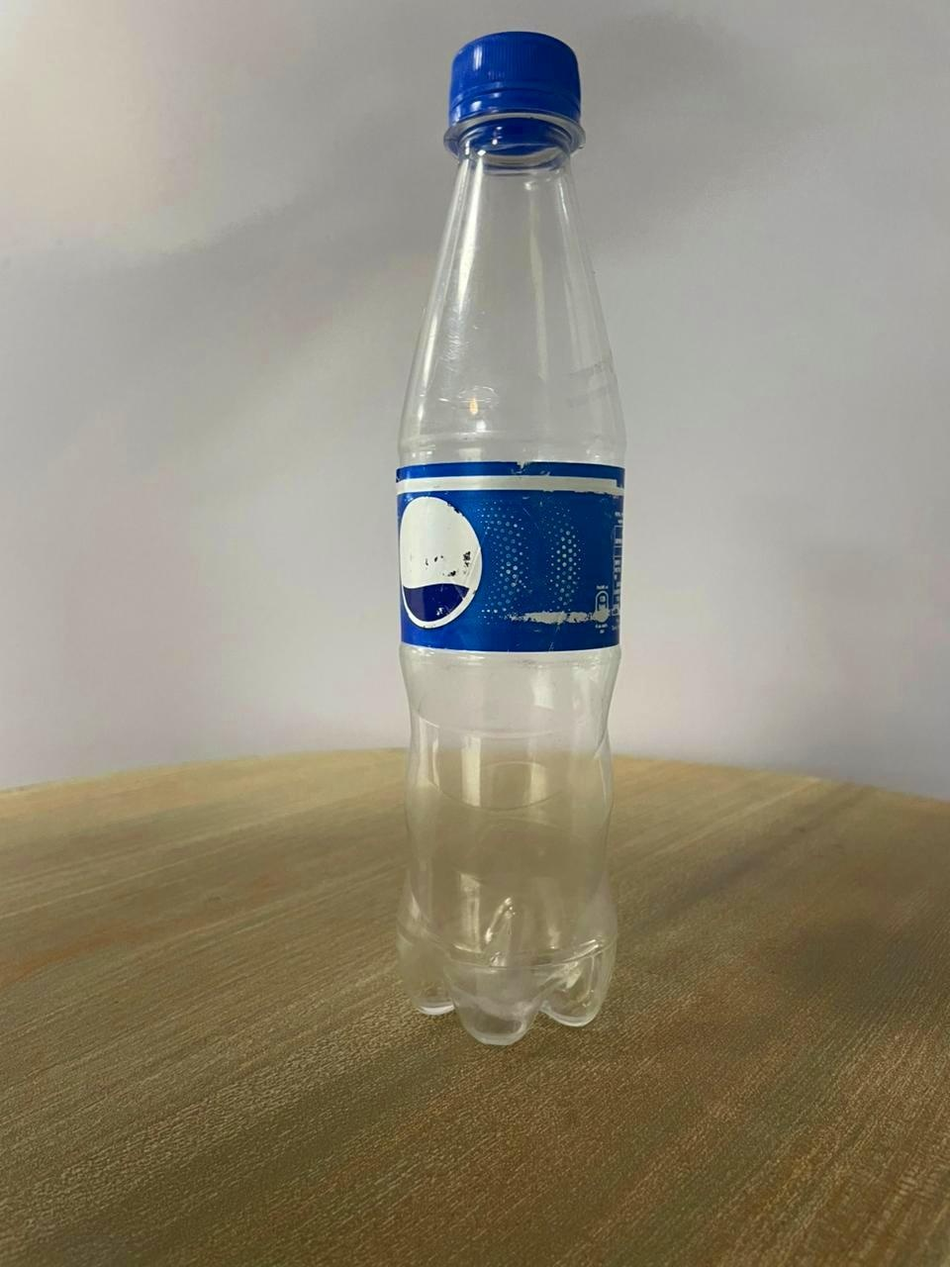Pepsi Bottle: (381, 25, 675, 1073), (376, 23, 671, 1065)
